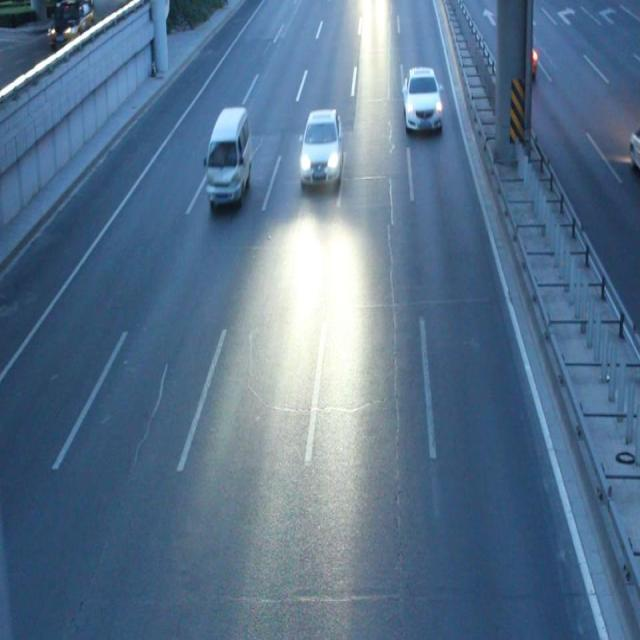car: (205, 106, 252, 205), (300, 107, 343, 187), (400, 65, 442, 131)
